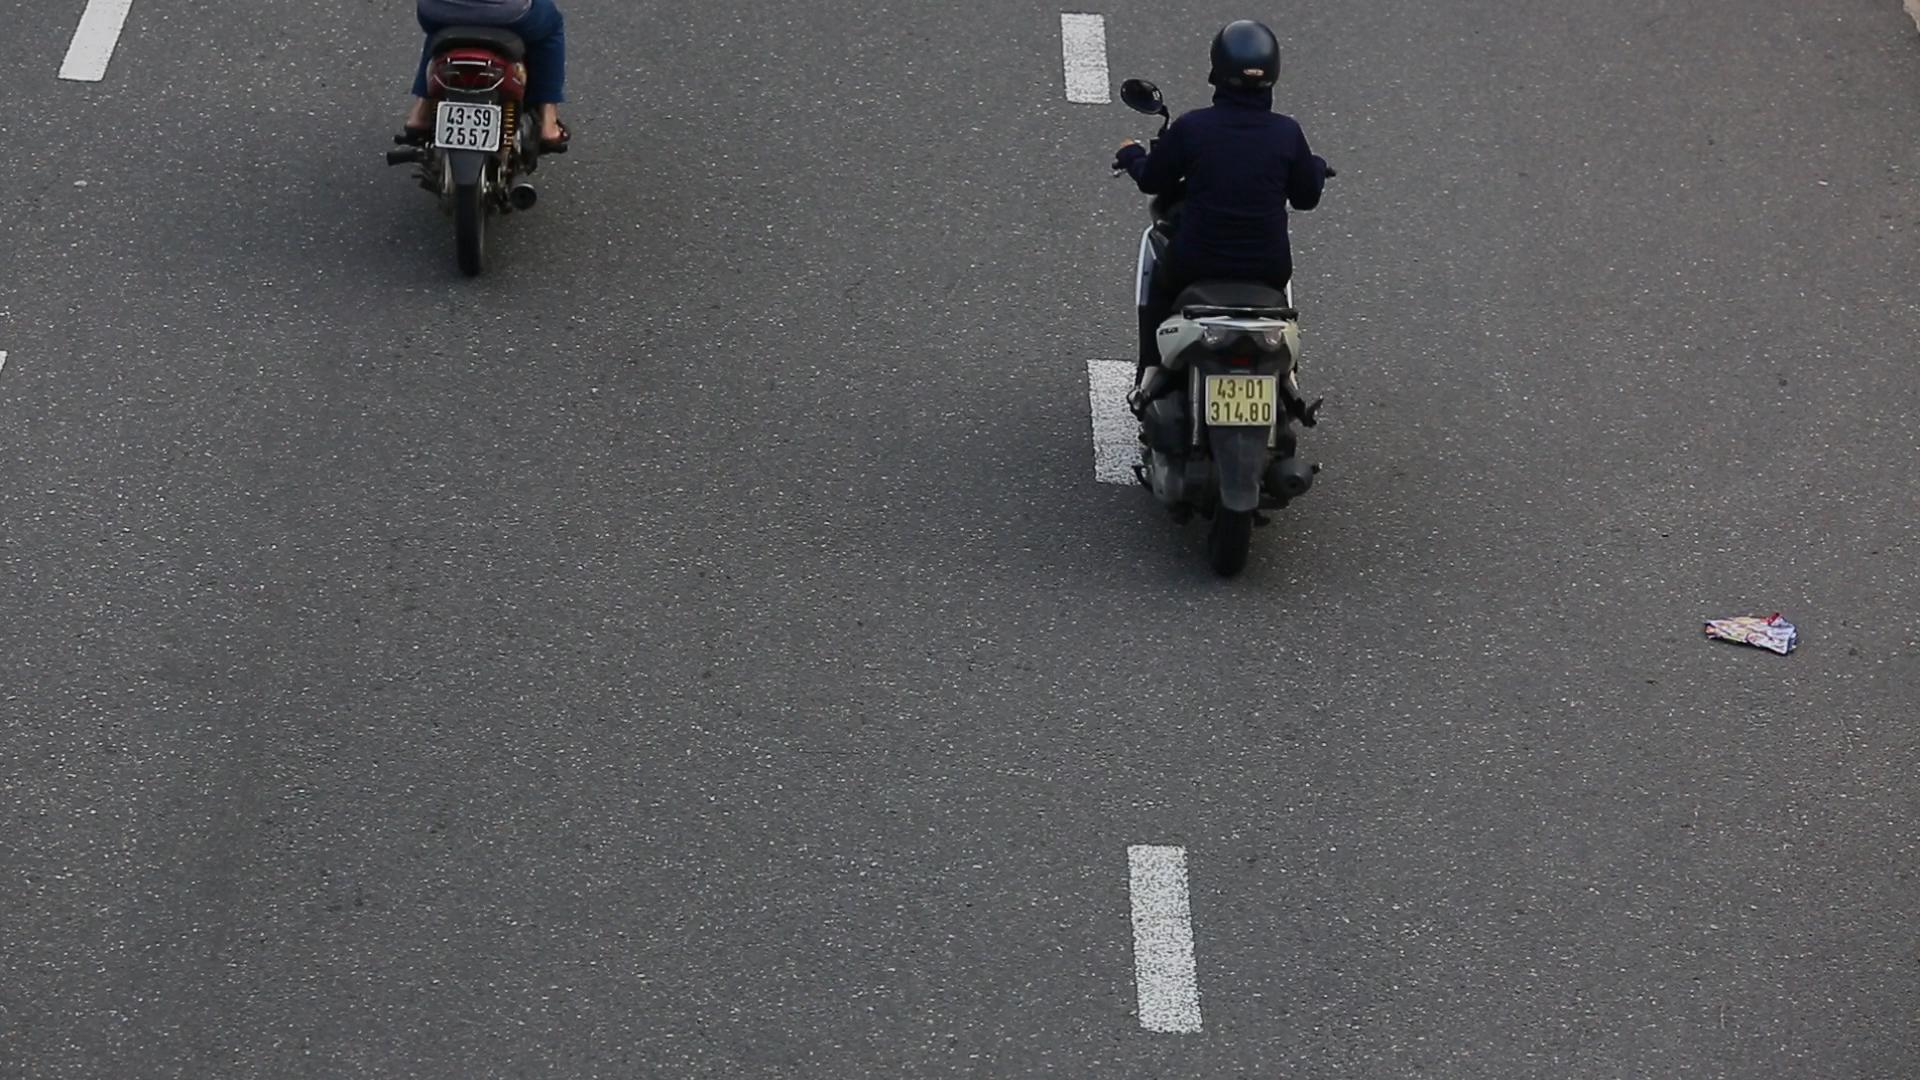motobike: (1098, 7, 1352, 599)
